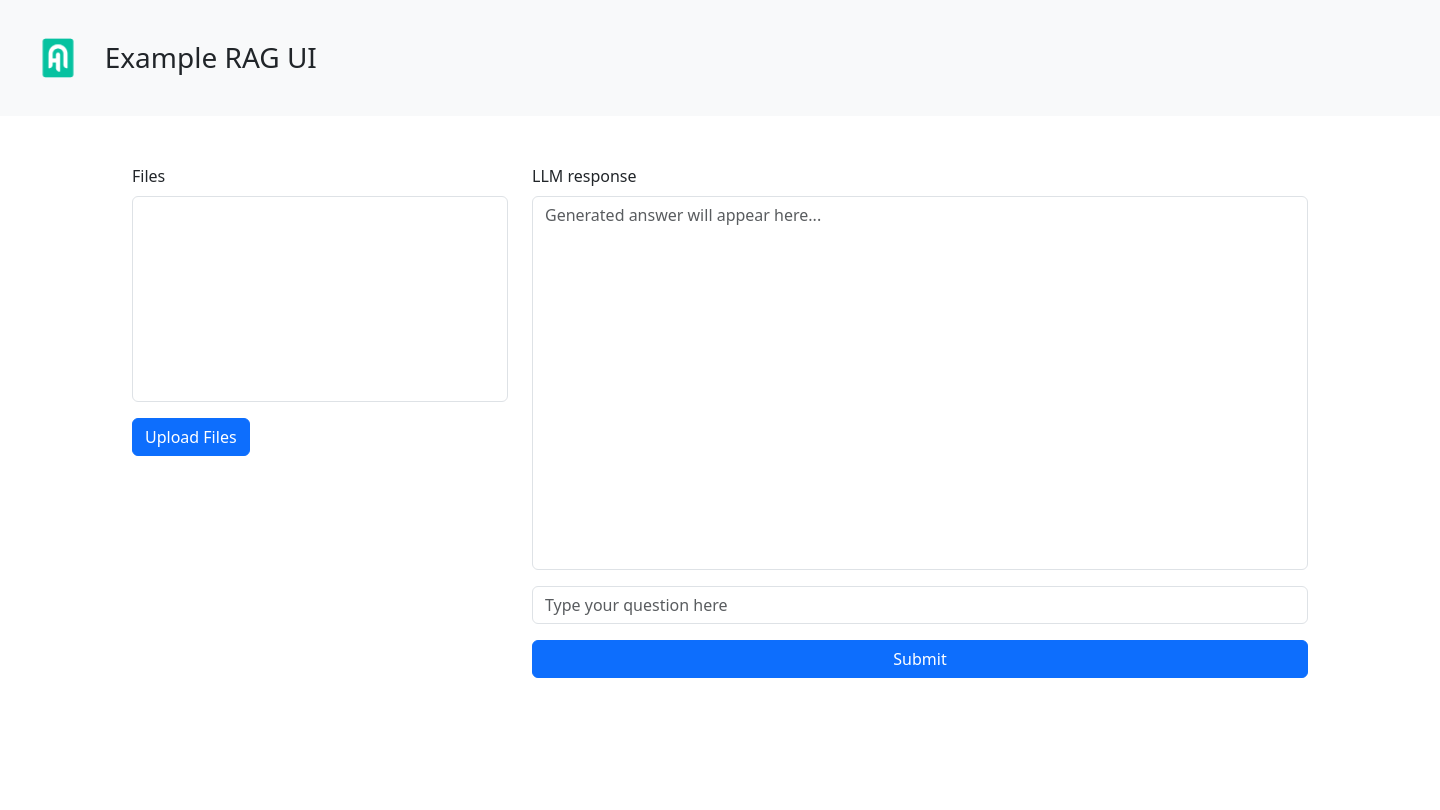
Test case: App Component › handles search query submission
The width and height of the screenshot is (1440, 810).
Type "Test query" into the field with placeholder "Type your question here".
click(920, 605); type("Test query")  # box [532, 586, 1308, 624]
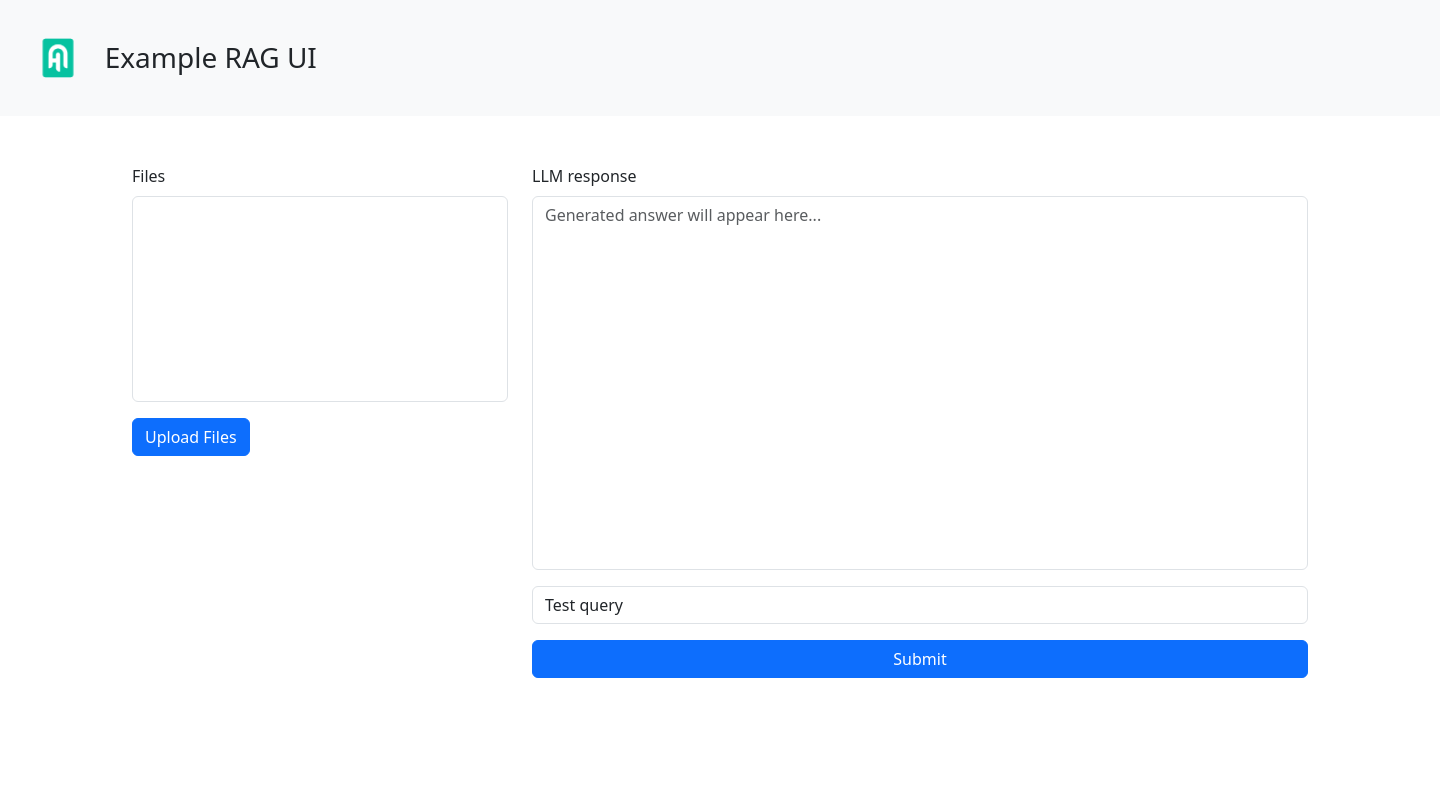
Click the button "Submit".
click(920, 659)  # box [532, 640, 1308, 678]
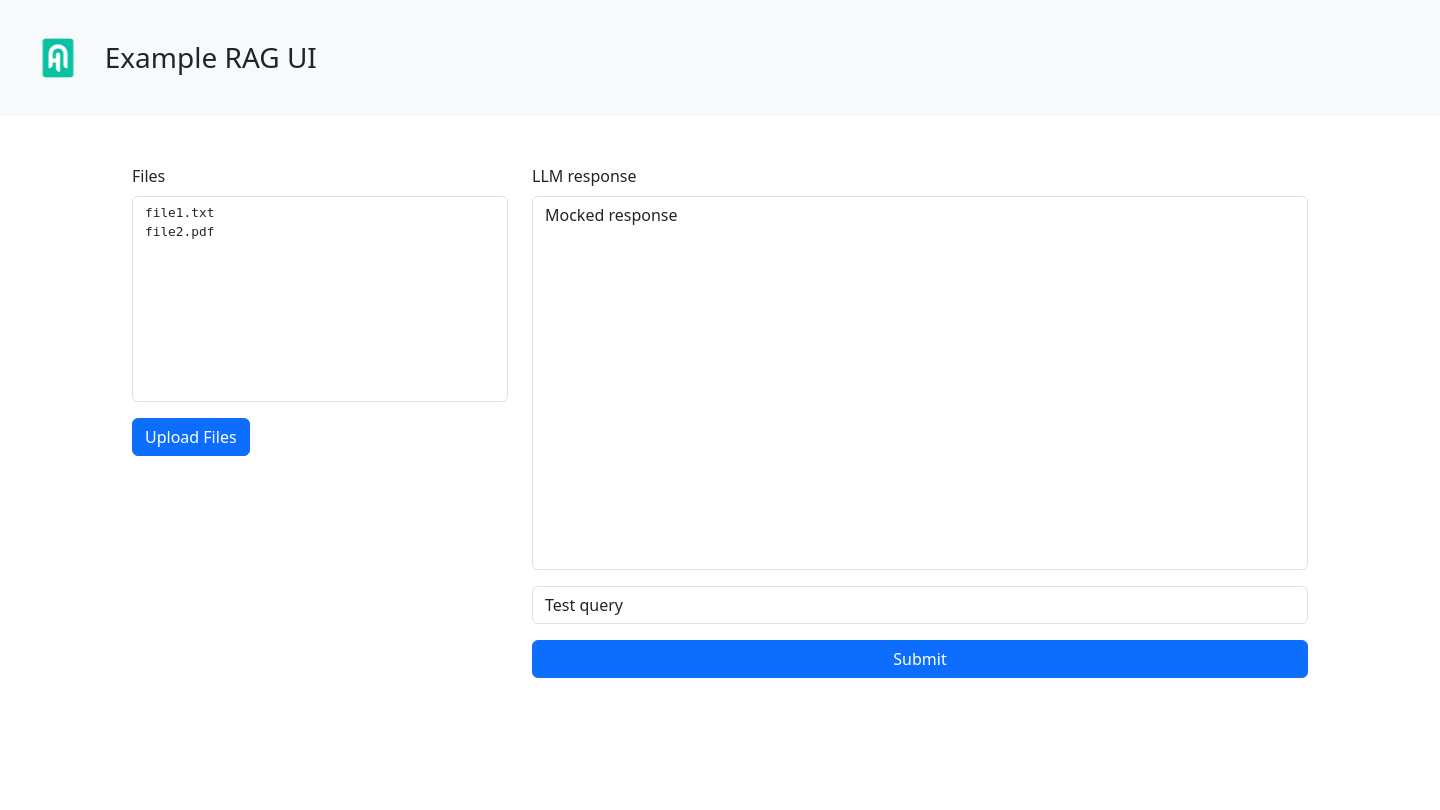
Expected: the text box "Mocked response" below "LLM response" is shown, [532, 196, 1308, 570]
